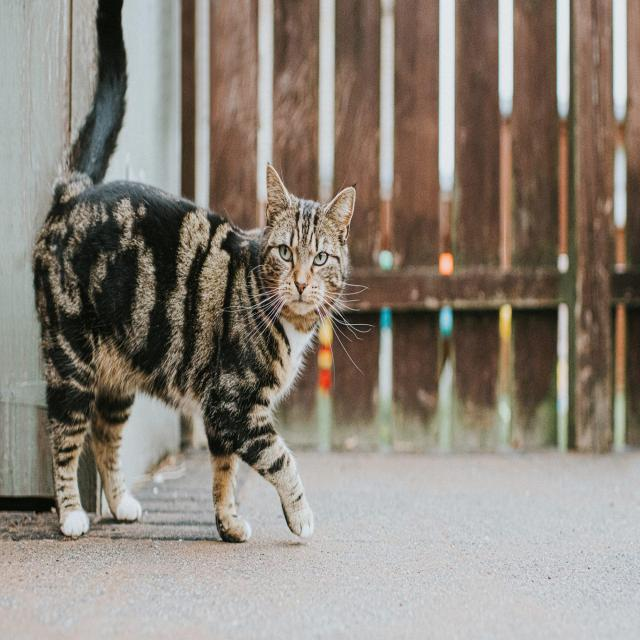Cat: (256, 154, 359, 335)
